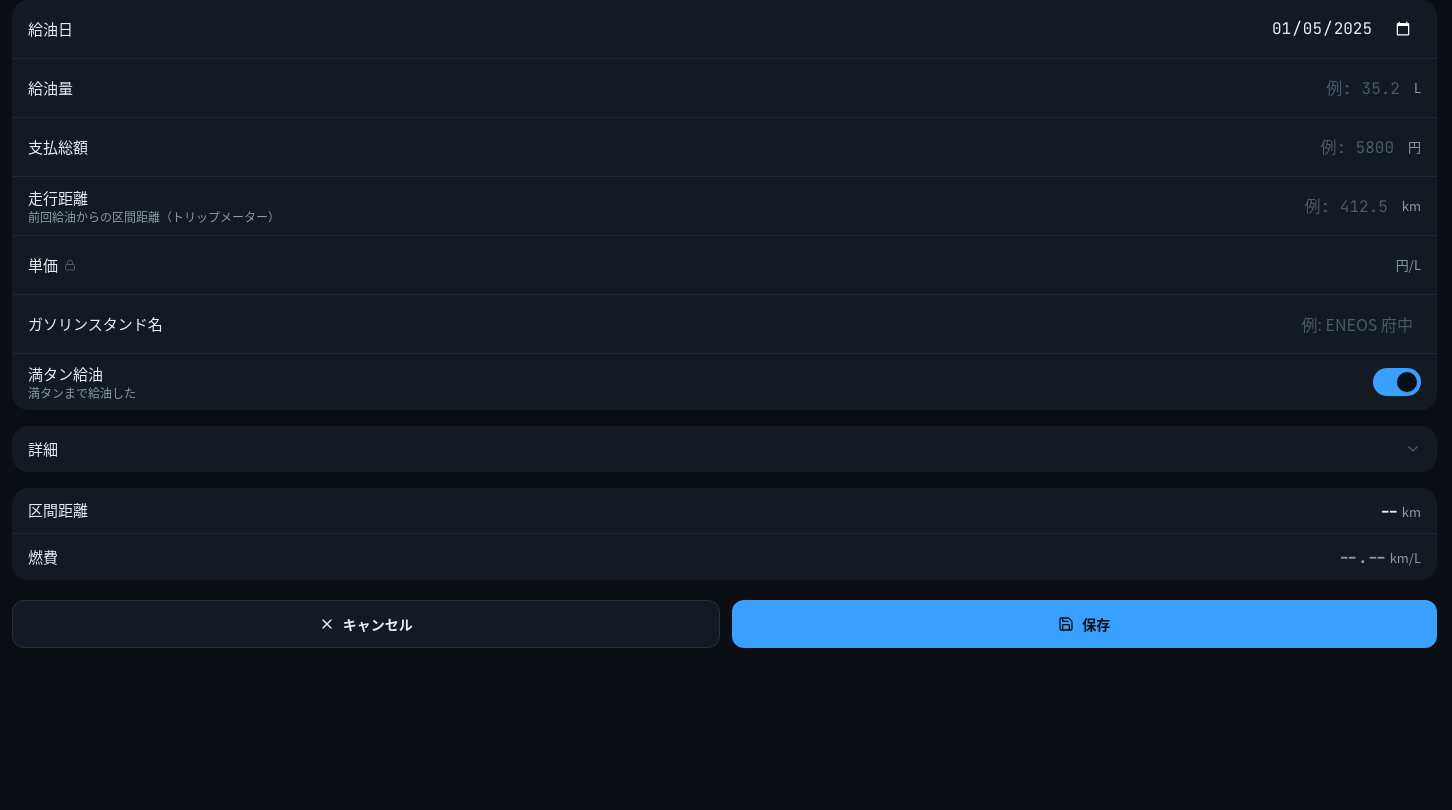
it: EditFuelRecordForm + useRecordForm (preview = chain) › 満タン給油の燃費は直前の部分給油と合算して表示し、件数を添える
Type "5.2" into the field named "給油量 (L)" at x=746, y=88, box [85,68,1408,108]
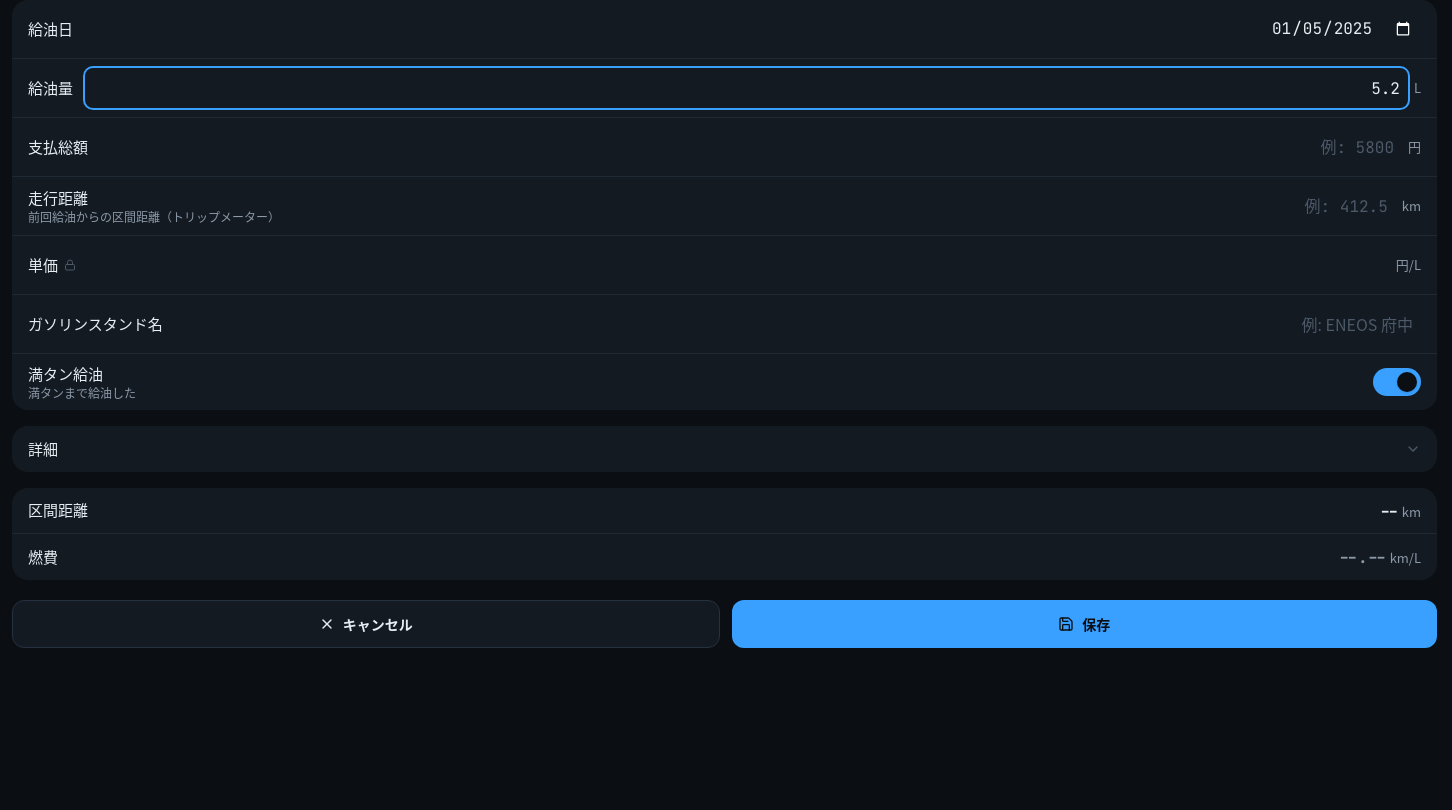
Type "250" into the field labelled "走行距離 前回給油からの区間距離（トリップメーター）" at x=844, y=206, box [292,186,1396,226]
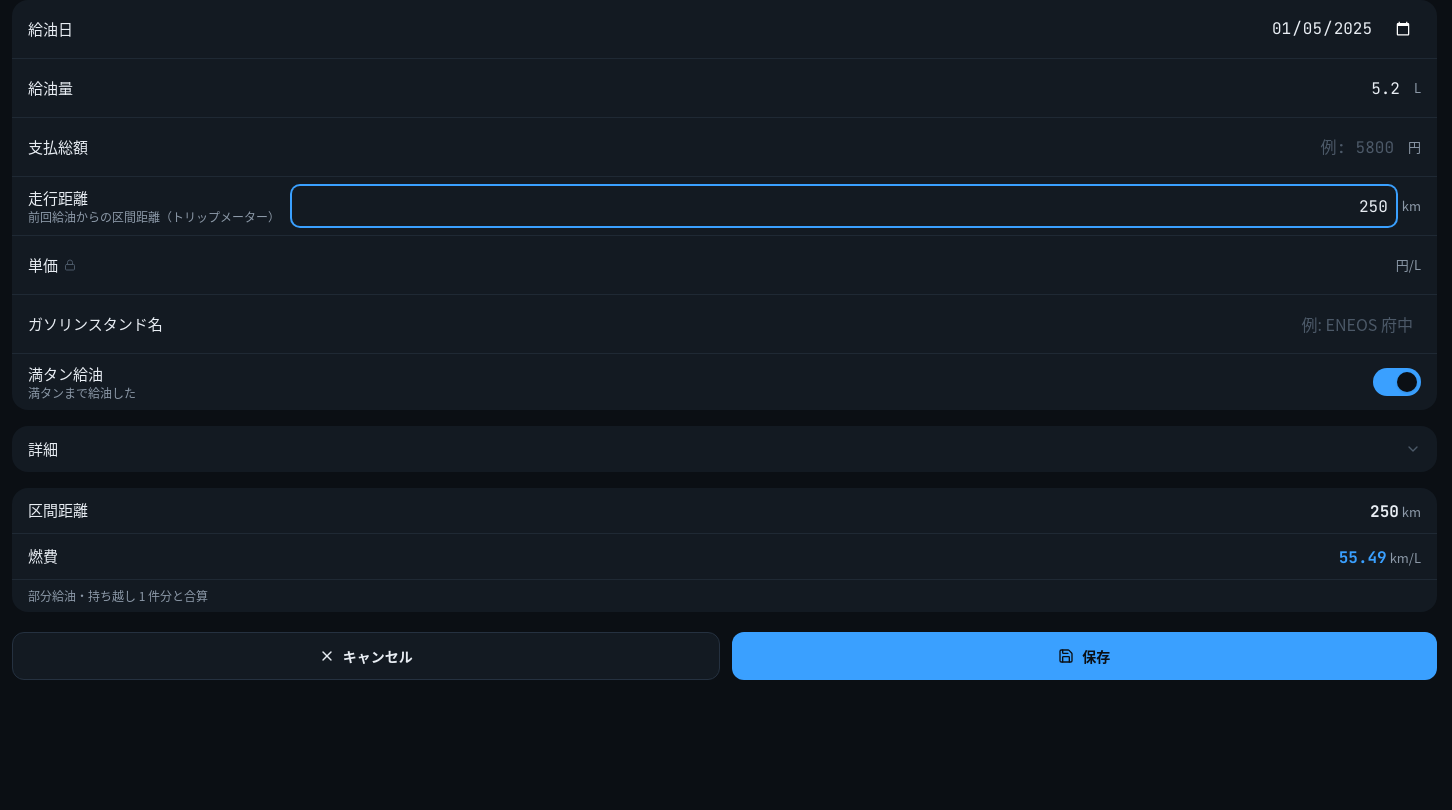
Expected: the text "55.49" is shown, [1339,546,1387,568]
